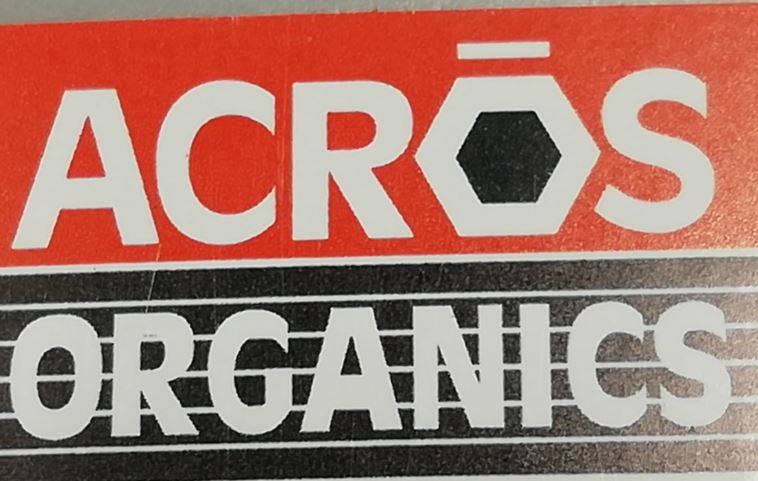AcrosOrganics: (10, 38, 734, 451)
